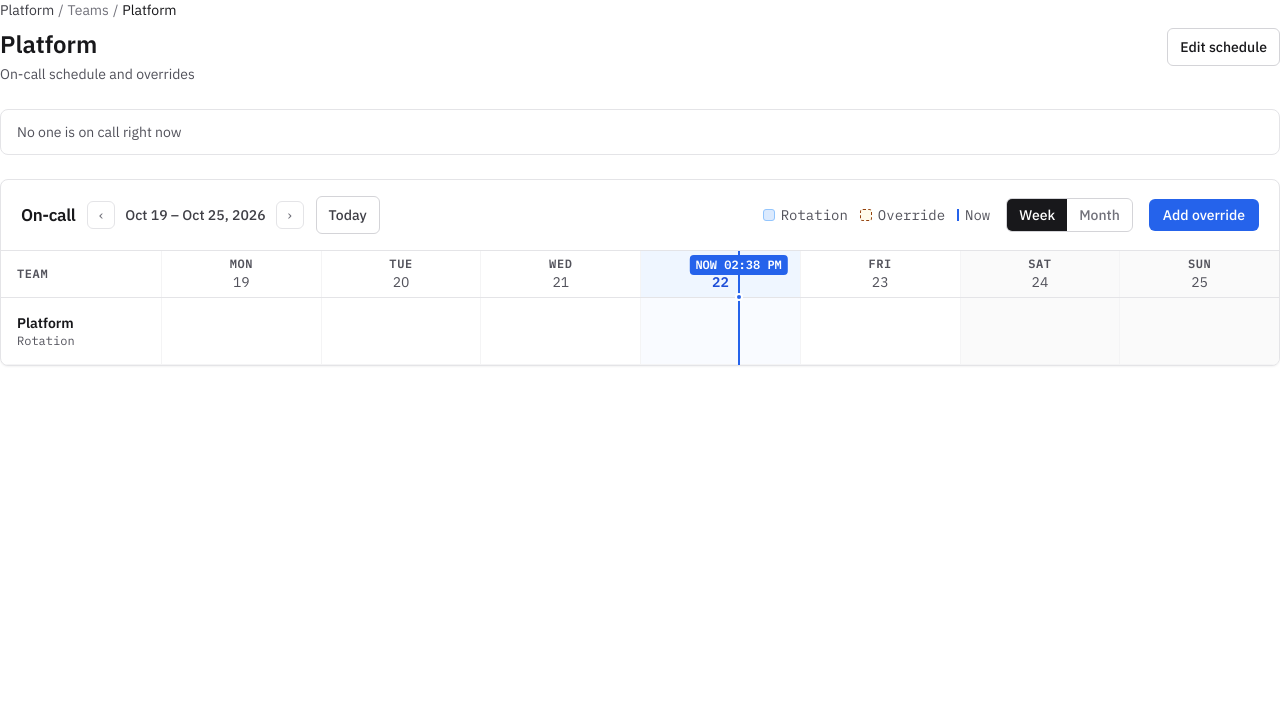
Test case: TeamShiftsRoute › shows admin schedule actions when signed in as admin
The width and height of the screenshot is (1280, 720).
Expected: the button "Edit schedule" is shown, x1=1167 y1=28 x2=1279 y2=66
Click the button "Add override" at (1204, 215), box x1=1149 y1=199 x2=1259 y2=231
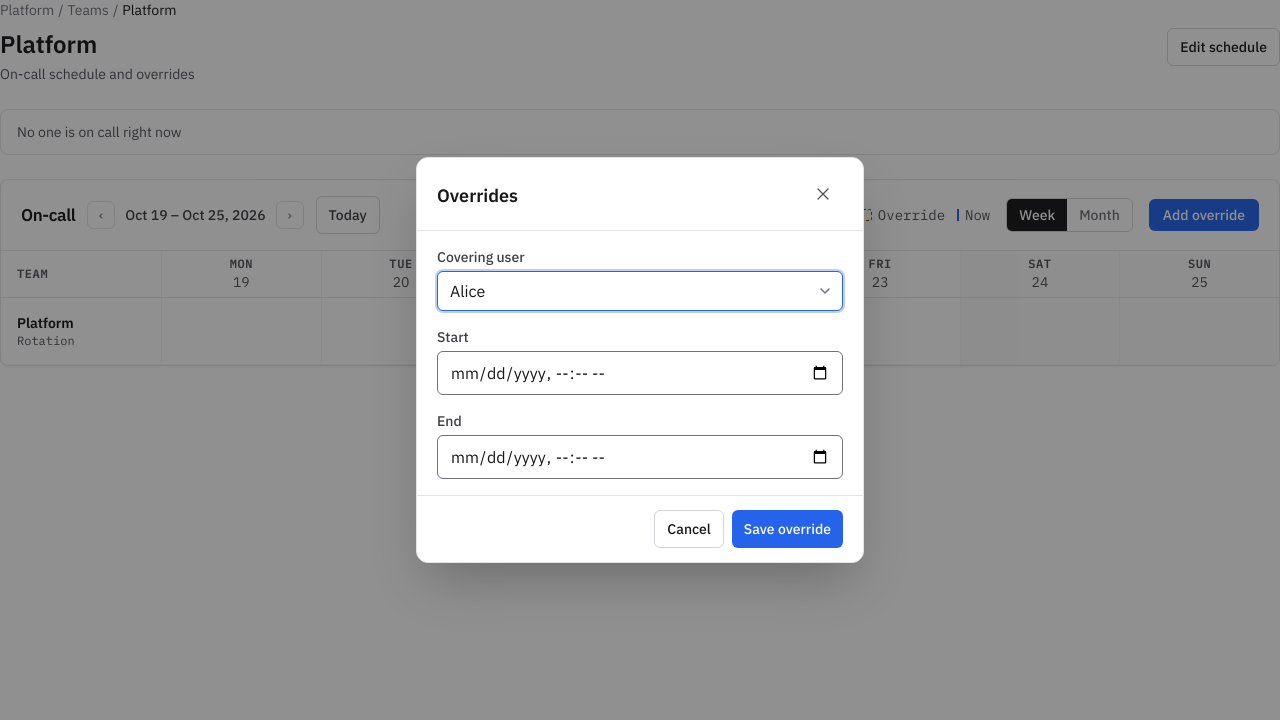
Expected: the dialog is shown, x1=416 y1=157 x2=864 y2=563
Type "2026-06-10T08:00" into the field labelled "Start" at (640, 373), box x1=437 y1=351 x2=843 y2=395
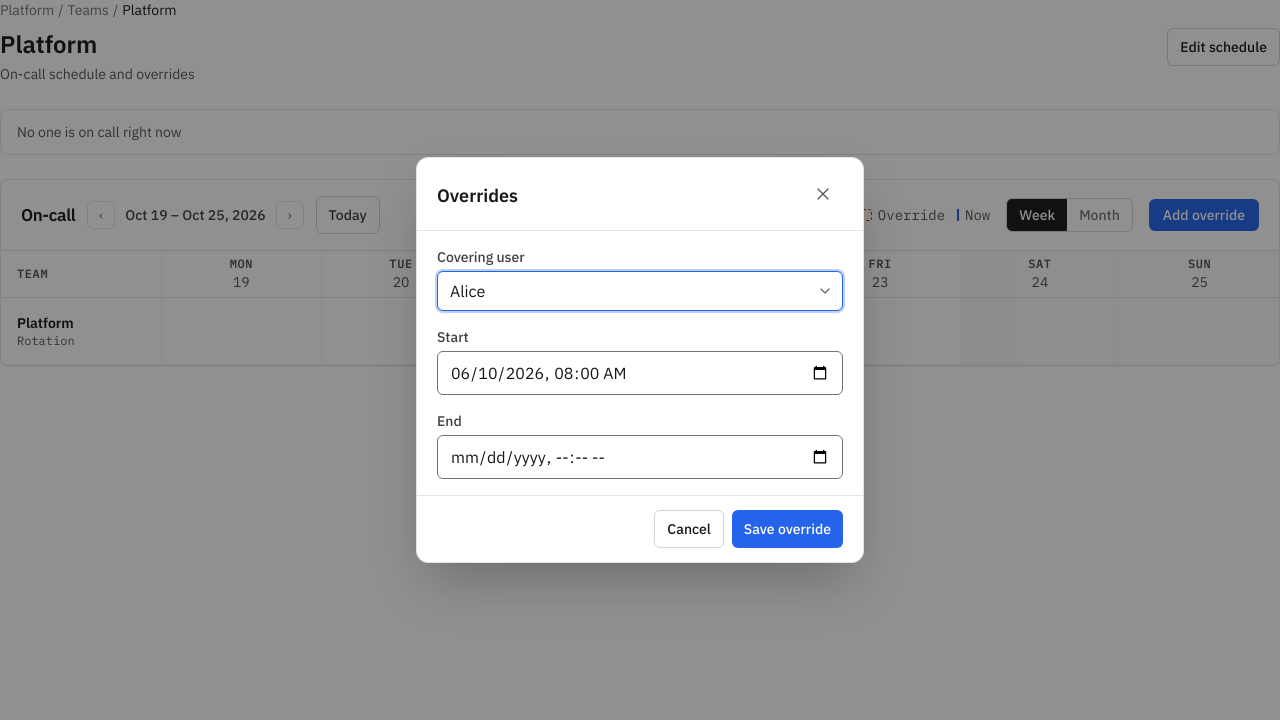
Type "2026-06-10T16:00" into the field labelled "End" at (640, 457), box x1=437 y1=435 x2=843 y2=479
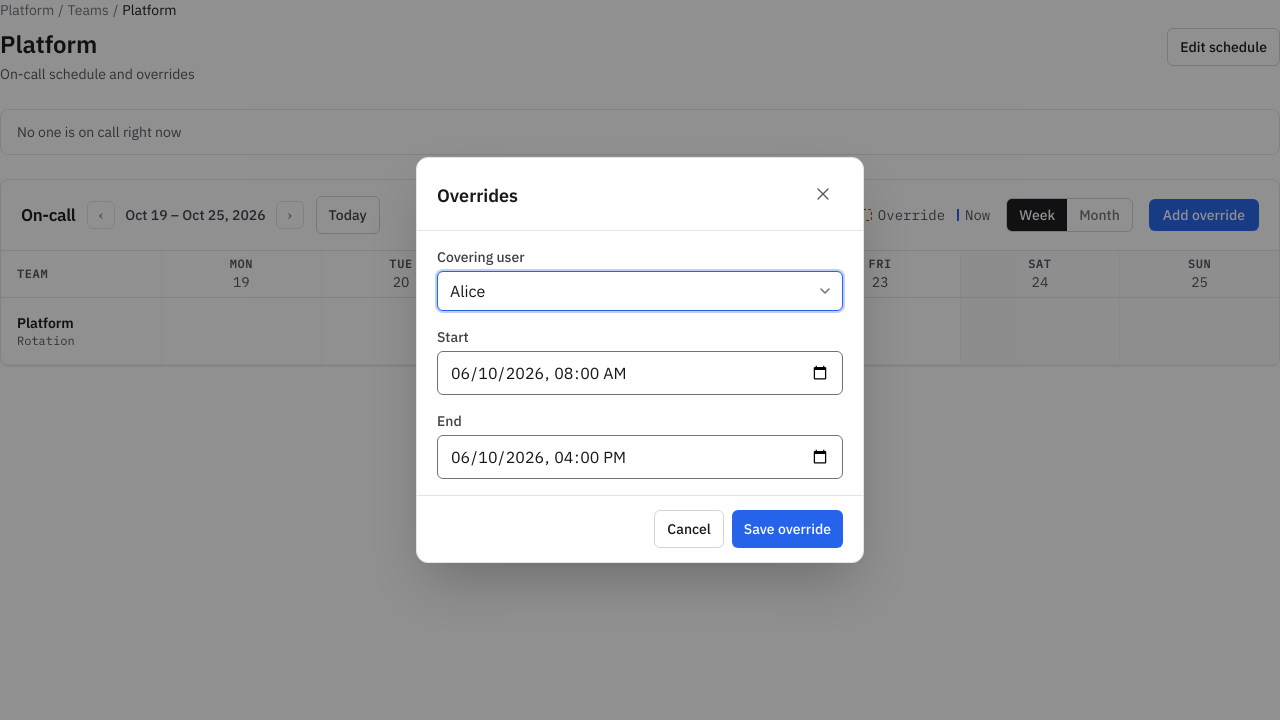
Click the button "Save override" at (787, 529), box x1=732 y1=510 x2=843 y2=548
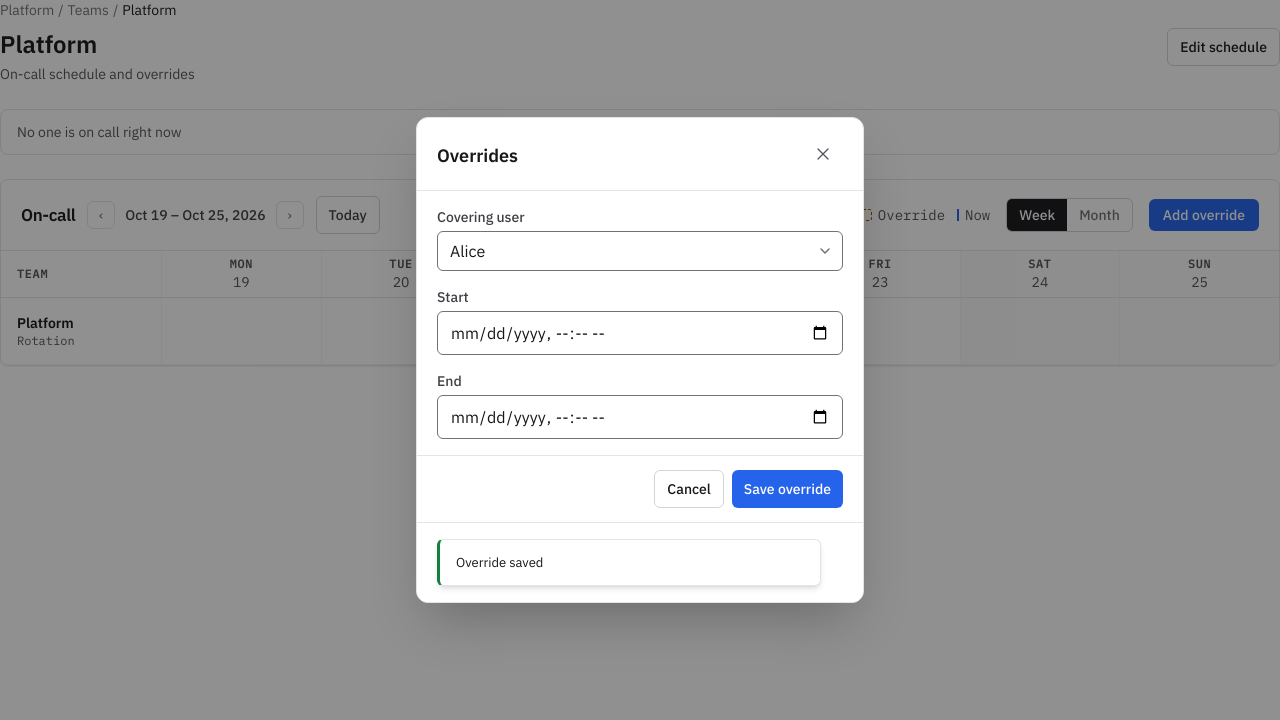
Expected: the text "Override saved" is shown, x1=437 y1=539 x2=821 y2=586
